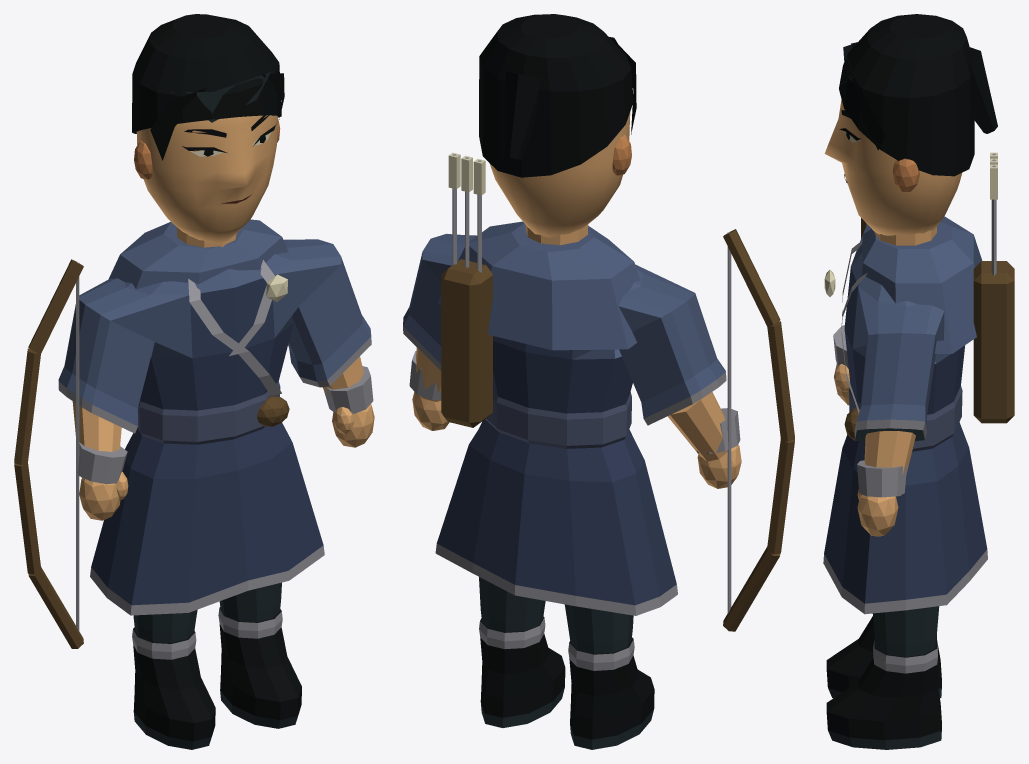
Rendered from Zhuxing.fbx.
3 views of the same model, side by side, from view 1: azimuth 30°, elevation 25°; view 2: azimuth 150°, elevation 25°; view 3: azimuth 270°, elevation 25° (orthographic). The views are drawn at different scales.
Parts seen in each view (by area): view 1: Zhuxing_Sample; view 2: Zhuxing_Sample; view 3: Zhuxing_Sample.
Part boxes in pixels (x1,y1,x2,y2): Zhuxing_Sample: [14, 14, 374, 749]; Zhuxing_Sample: [403, 14, 794, 749]; Zhuxing_Sample: [823, 14, 1014, 749].
Size of the model in its own units: 127 by 226 by 56.96.
Materials: 1 (1 with a texture image).
